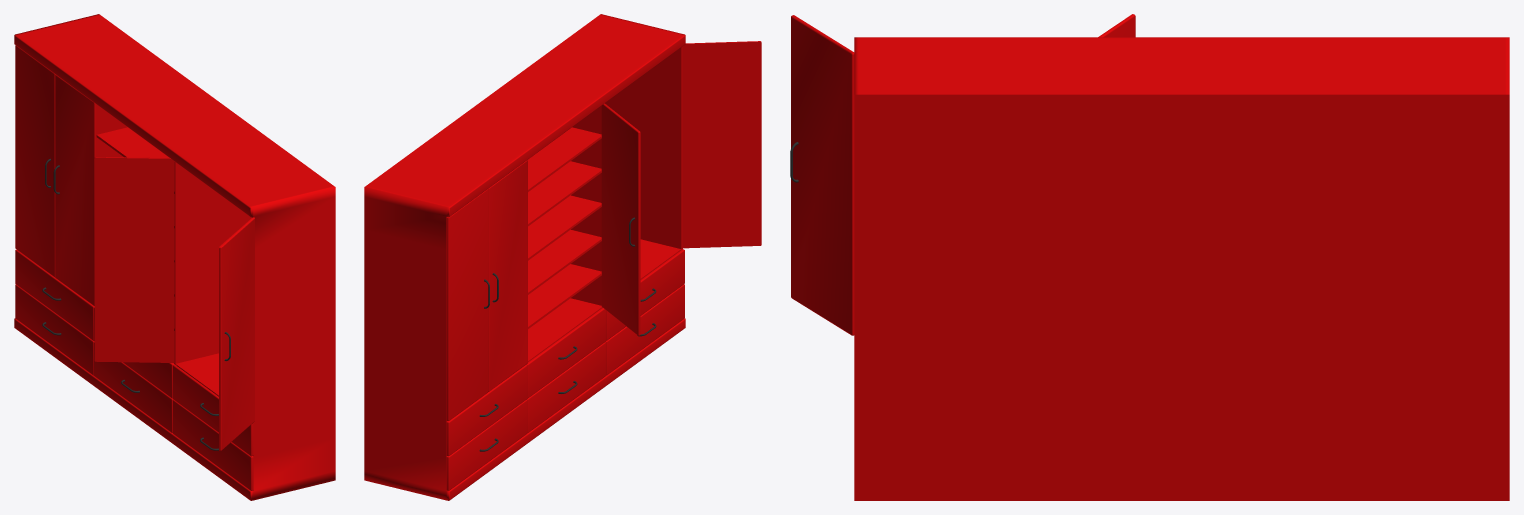
Rendered from (Msh)Wardrobe.fbx.
The picture shows the model from 3 angles, left to right: view 1: azimuth 30°, elevation 25°; view 2: azimuth 150°, elevation 25°; view 3: azimuth 270°, elevation 25°; orthographic projection. The views are drawn at different scales.
Visible parts, largest first — view 1: wardrobe_body, wardrobe_door2, wardrobe_door4, wardrobe_door3, wardrobe_door1, wardrobe_drawer2, wardrobe_drawer1, wardrobe_drawer5, wardrobe_drawer3, wardrobe_drawer6, wardrobe_drawer4; view 2: wardrobe_body, wardrobe_door1, wardrobe_door4, wardrobe_door2, wardrobe_door3, wardrobe_drawer2, wardrobe_drawer4, wardrobe_drawer1, wardrobe_drawer3, wardrobe_drawer5, wardrobe_drawer6; view 3: wardrobe_body, wardrobe_door1.
Boxes of the visible parts, x1,y1,x2,y2 form: wardrobe_body: (14, 14, 335, 500); wardrobe_door2: (94, 157, 173, 362); wardrobe_door4: (15, 45, 55, 276); wardrobe_door3: (53, 74, 96, 306); wardrobe_door1: (219, 217, 254, 450); wardrobe_drawer2: (15, 249, 94, 340); wardrobe_drawer1: (15, 284, 94, 375); wardrobe_drawer5: (173, 399, 253, 490); wardrobe_drawer3: (94, 342, 173, 432); wardrobe_drawer6: (173, 364, 253, 456); wardrobe_drawer4: (94, 307, 174, 398); wardrobe_body: (364, 14, 685, 500); wardrobe_door1: (682, 41, 761, 248); wardrobe_door4: (446, 189, 489, 420); wardrobe_door2: (601, 103, 640, 335); wardrobe_door3: (488, 160, 527, 391); wardrobe_drawer2: (446, 365, 527, 456); wardrobe_drawer4: (526, 307, 605, 398); wardrobe_drawer1: (446, 399, 527, 490); wardrobe_drawer3: (527, 342, 605, 432); wardrobe_drawer5: (605, 284, 684, 375); wardrobe_drawer6: (606, 249, 684, 340); wardrobe_body: (854, 37, 1509, 500); wardrobe_door1: (790, 15, 854, 335).
Size of the model in its own units: 189 by 378 by 606.
